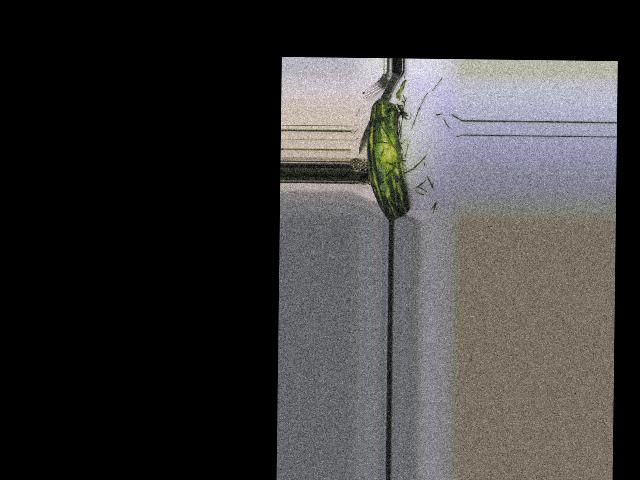cucumber: (366, 99, 411, 219)
